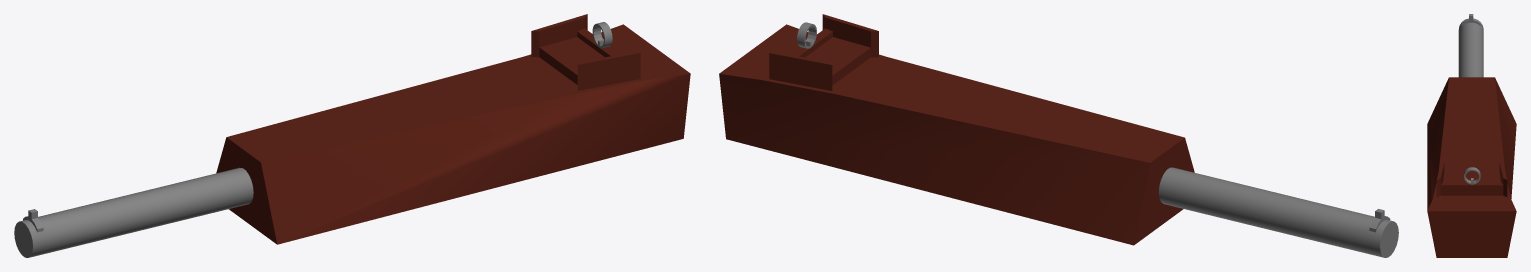
Rendered from From the inside gun.fbx.
3 renders of one model, left to right at view 1: azimuth 30°, elevation 25°; view 2: azimuth 150°, elevation 25°; view 3: azimuth 270°, elevation 25°, orthographic. The views are drawn at different scales.
Parts seen in each view (by area): view 1: Box001, Cylinder001, Cylinder002; view 2: Box001, Cylinder001, Cylinder002; view 3: Box001, Cylinder001, Cylinder002.
Boxes of the visible parts, bbox=[...] form: Box001: bbox=[216, 14, 690, 244]; Cylinder001: bbox=[14, 167, 253, 257]; Cylinder002: bbox=[592, 22, 612, 48]; Box001: bbox=[719, 14, 1194, 245]; Cylinder001: bbox=[1158, 167, 1398, 257]; Cylinder002: bbox=[797, 22, 816, 48]; Box001: bbox=[1427, 77, 1516, 257]; Cylinder001: bbox=[1458, 14, 1483, 77]; Cylinder002: bbox=[1464, 167, 1480, 184].
Size of the model in its own units: 51.63 by 8.44 by 9.49.
